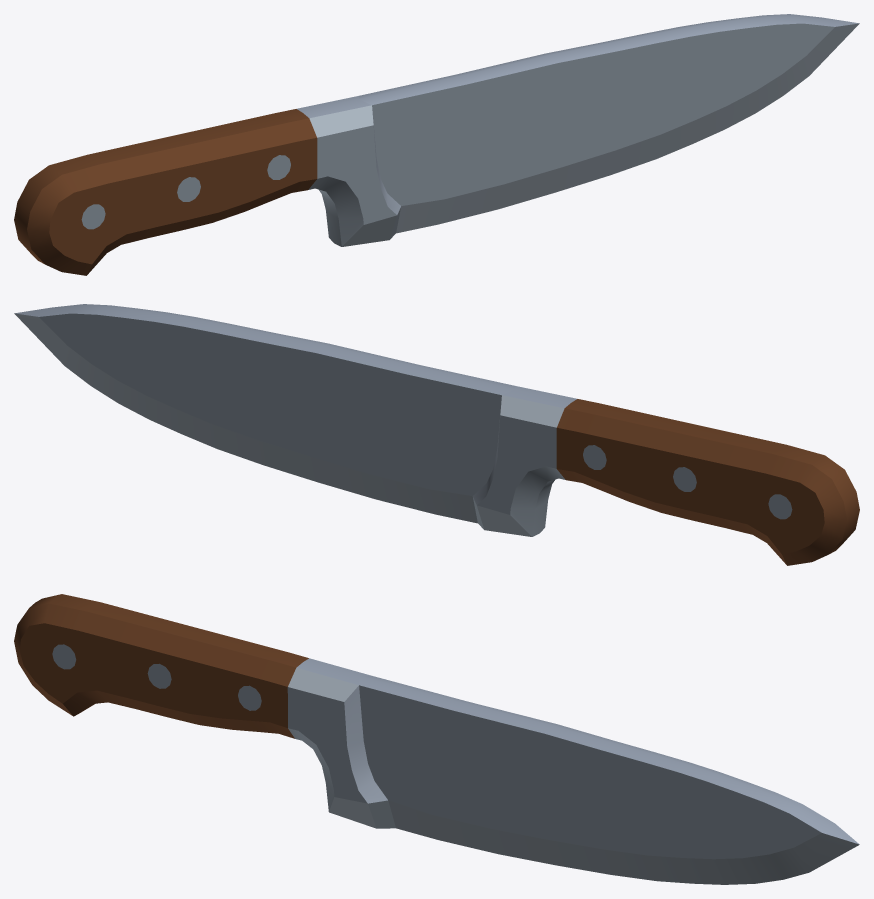
The model's file is Knife.fbx.
3 renders of one model, top to bottom at view 1: azimuth 30°, elevation 25°; view 2: azimuth 150°, elevation 25°; view 3: azimuth 330°, elevation 25°, orthographic.
Visible parts, largest first — view 1: Knife_Model; view 2: Knife_Model; view 3: Knife_Model.
Part boxes in pixels (box(x1,y1,x2,y2)): Knife_Model: box(14, 14, 859, 275); Knife_Model: box(14, 304, 859, 565); Knife_Model: box(14, 594, 859, 884).
Size of the model in its own units: 1249 by 213 by 75.59.
